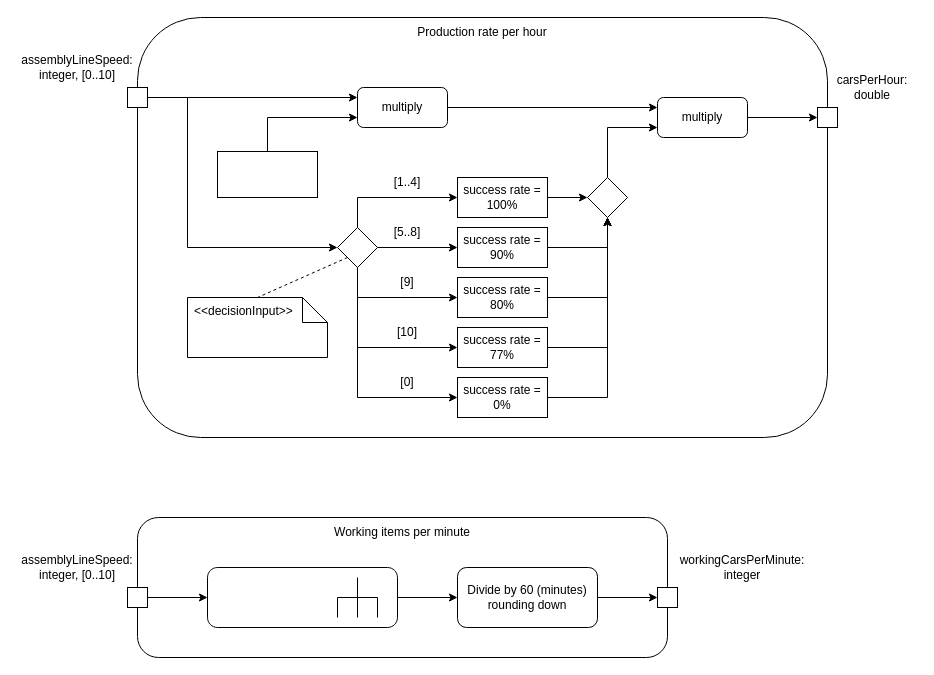
This 934x675 diagram has some shape labels left out. The shapes that lost their labels are listed below. From the top down, each one's box as (x1, y1, x2, y2) in pixels, then its label:
(216, 150, 318, 198): Cars per hour = 221
(186, 296, 328, 358): assemblyLineSpeed = ?
(206, 566, 398, 628): CallBehaviorAction1
